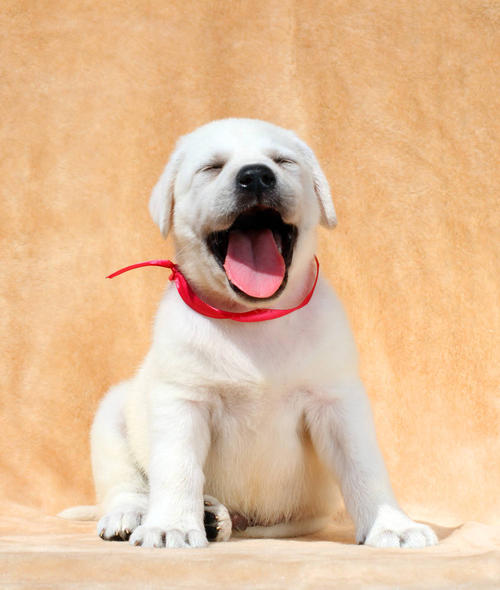dog: (139, 115, 353, 315)
